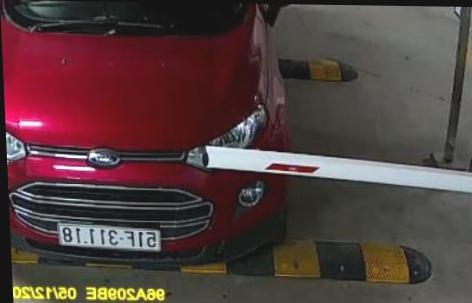License_Plate: (56, 215, 164, 255)
